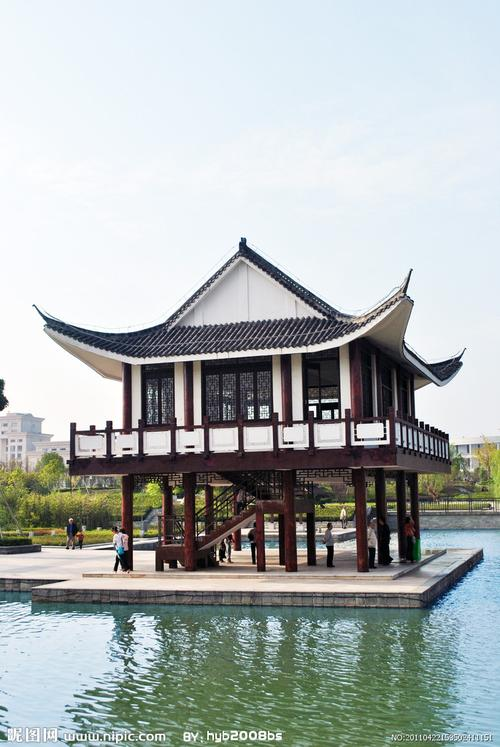buildings: (34, 283, 445, 539)
sea_river: (46, 598, 464, 736)
